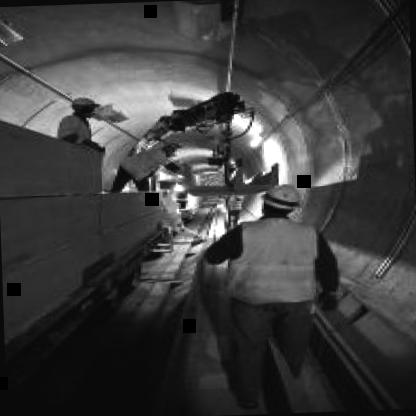helmet: (260, 183, 308, 216), (70, 95, 104, 117)
